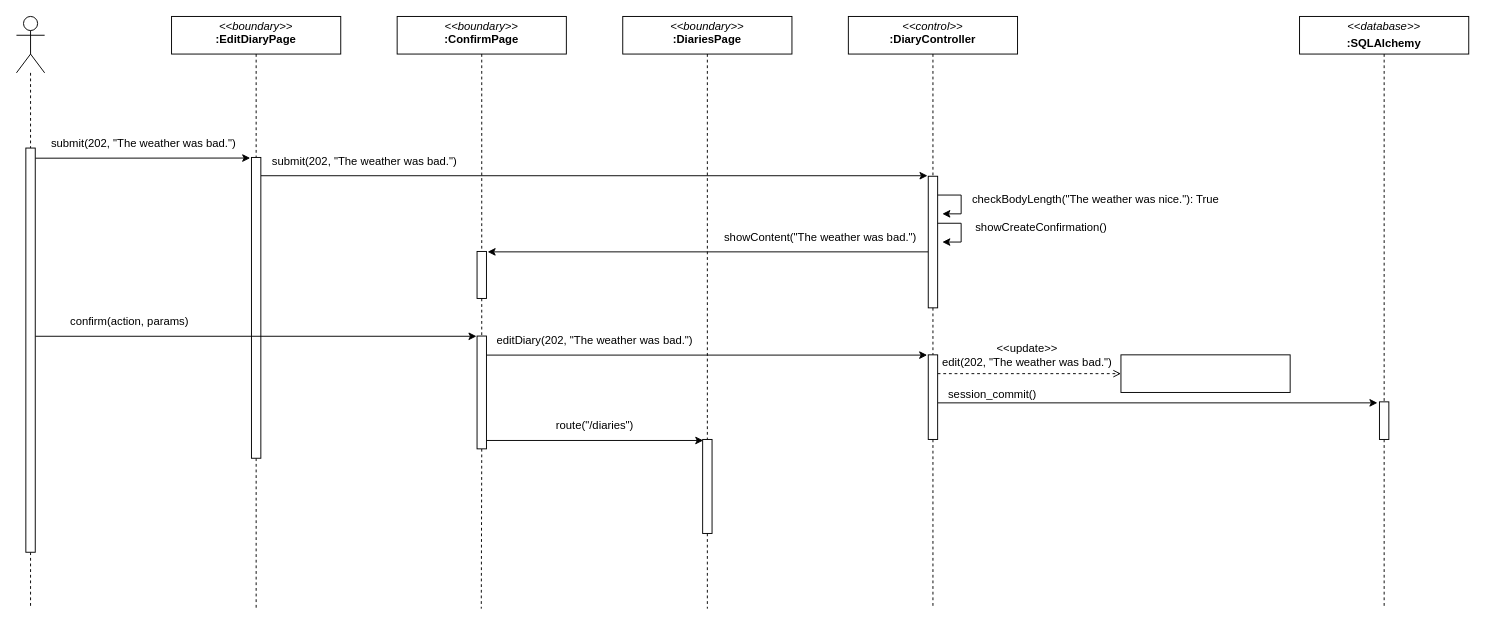
Image size: 1485x626. Some labels were removed from this diagram. The box of each missing label's shape, as (x1, y1, x2, y2) in pixels:
:User: (16, 16, 45, 73)
<<entity >> editedDiary:Diary: (1120, 354, 1290, 392)
